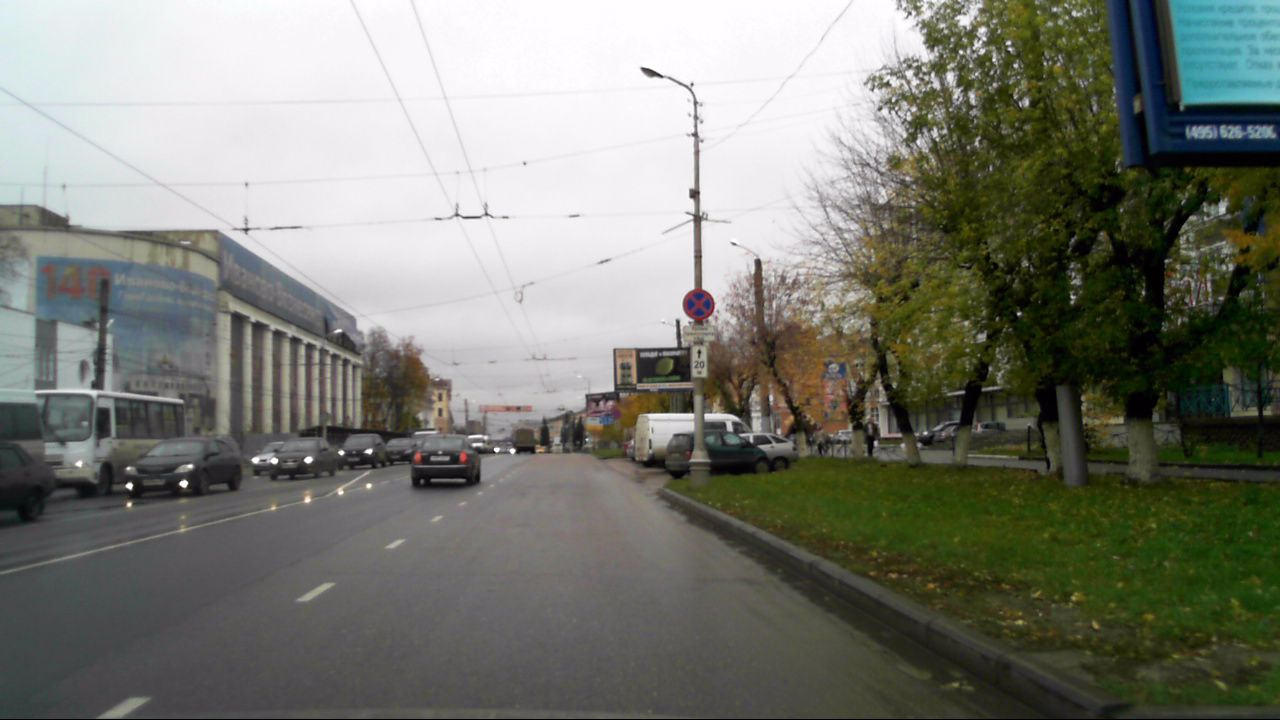No Parking: (682, 289, 714, 321)
